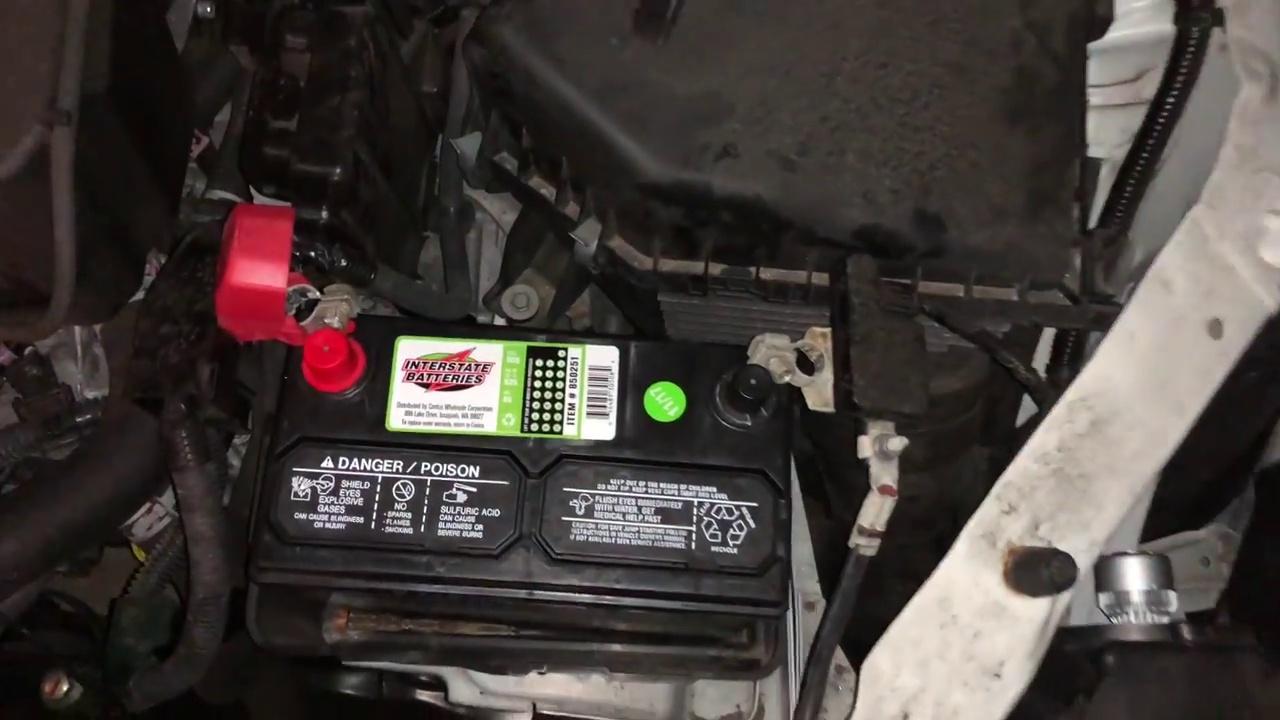battery: (266, 262, 790, 627)
neg_disconnected: (721, 293, 844, 433)
pos_disconnected: (223, 221, 380, 395)
